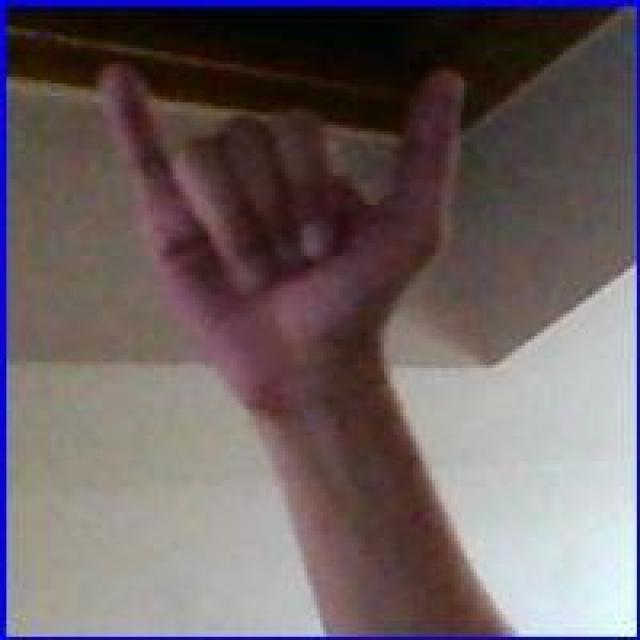Y: (82, 46, 472, 405)
